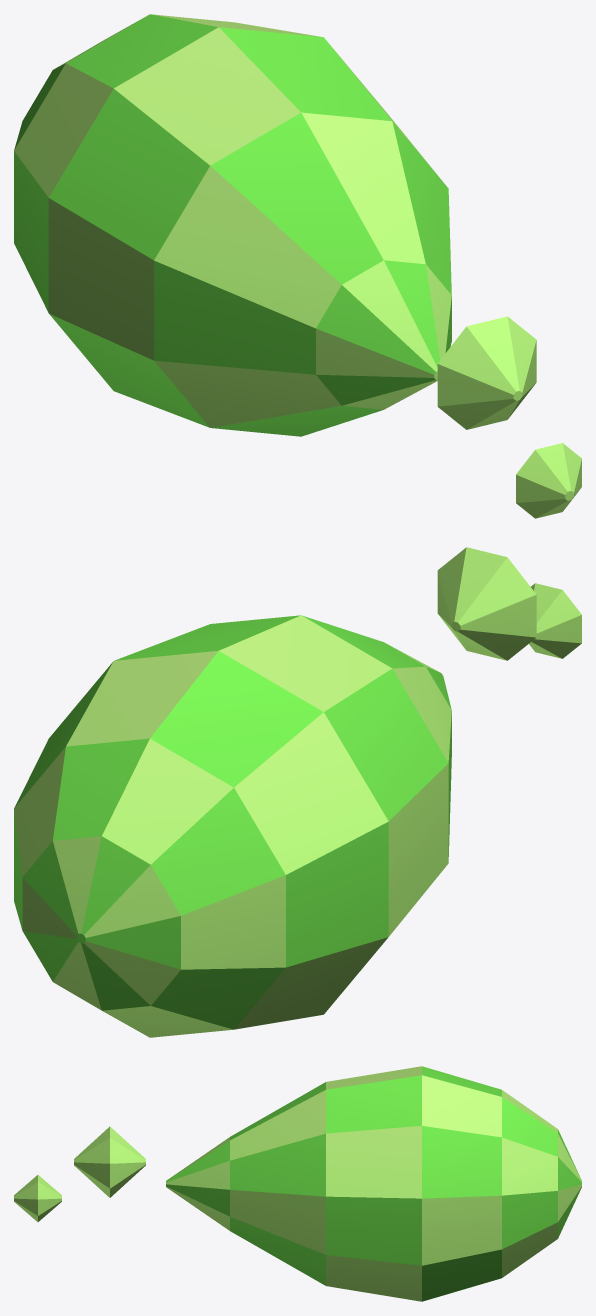
File: AcidShot.fbx
3 views of the same model, one above another, from view 1: azimuth 30°, elevation 25°; view 2: azimuth 150°, elevation 25°; view 3: azimuth 270°, elevation 25° (orthographic). The views are drawn at different scales.
Parts seen in each view (by area): view 1: Blob, Drops; view 2: Blob, Drops; view 3: Blob, Drops.
Part boxes in pixels (bbox=[...]): Blob: bbox=[14, 14, 451, 436]; Drops: bbox=[437, 316, 581, 518]; Blob: bbox=[14, 615, 451, 1037]; Drops: bbox=[437, 547, 581, 660]; Blob: bbox=[166, 1066, 581, 1301]; Drops: bbox=[14, 1126, 145, 1221].
Bounding box in the file's own units: 0.2853 × 0.3 × 0.71.
2 materials, 2 textured.
